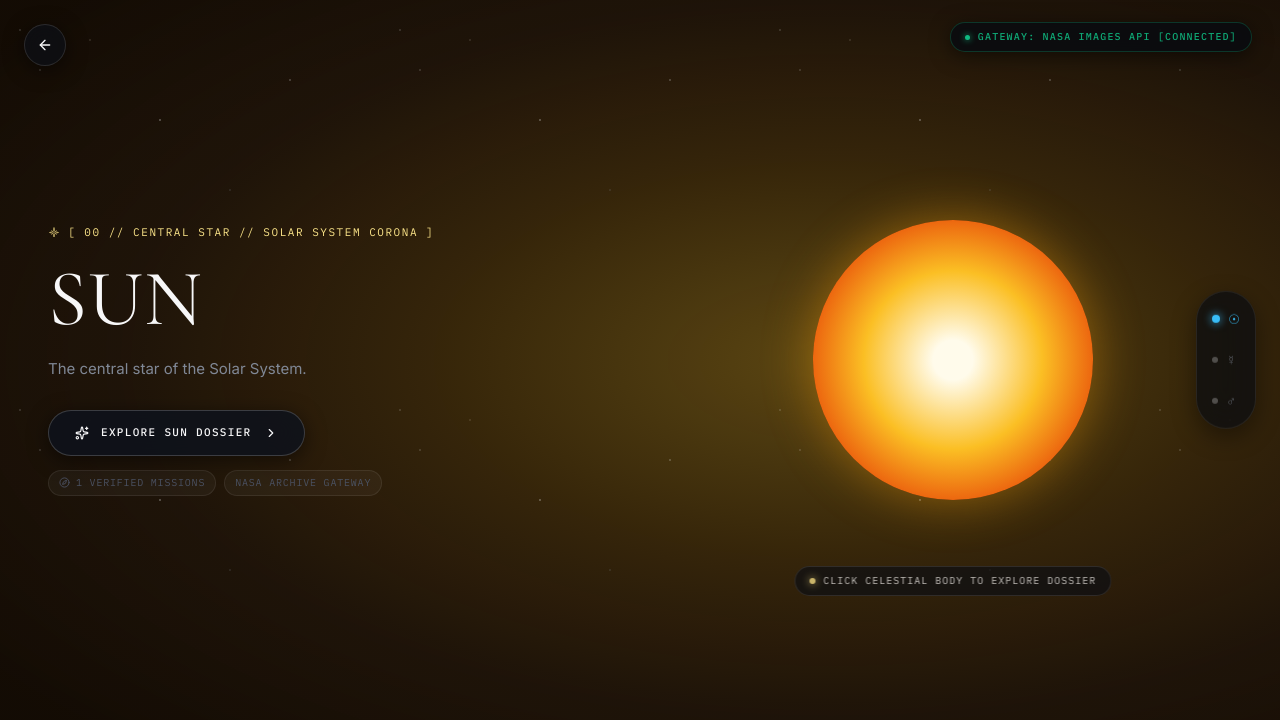
Test case: ASTRA Space Imagery — Immersive Planetary Worlds Redesign › renders interactive 3D celestial world on left stage with matching background theme when expanding dossier
// Expand Sun dossier
Click the button with test id "expand-world-sun" at {"x": 176, "y": 433}, box [48,410,304,456]
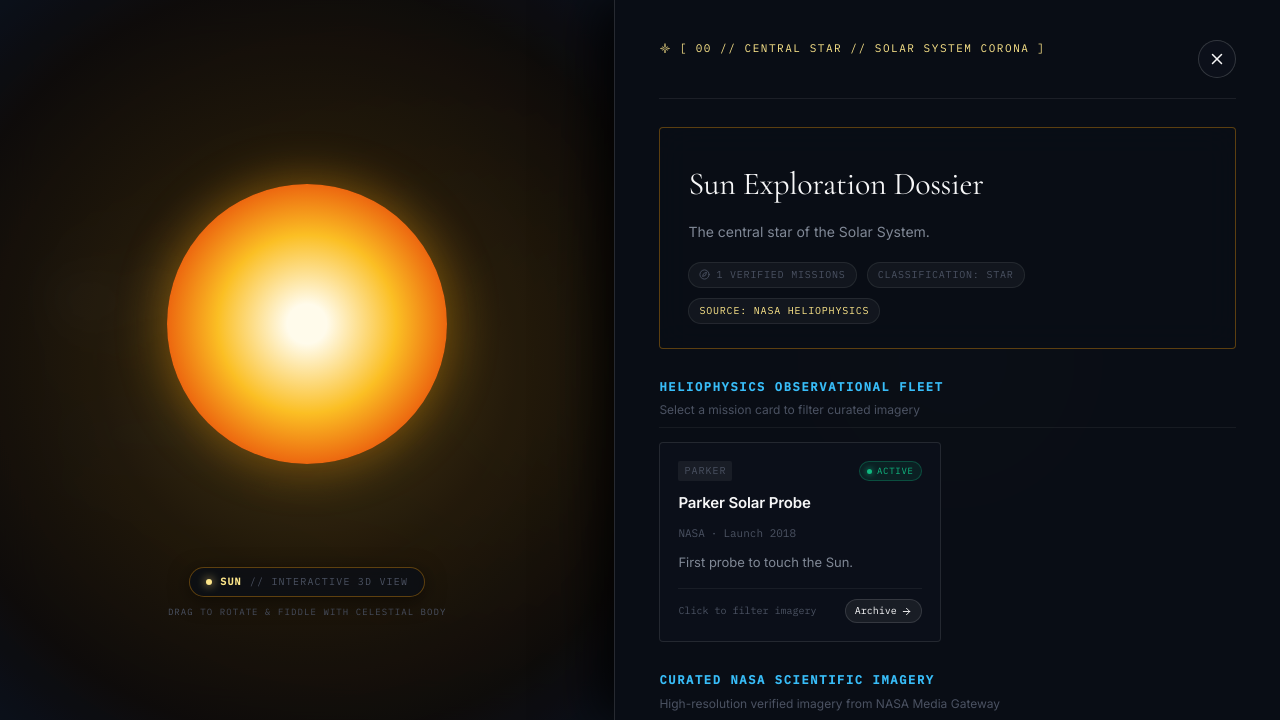
Result: the element with test id "dossier-overlay-sun" is shown
Result: the element with test id "dossier-stage-sun" is shown at [0,0,614,719]
Result: the button with test id "planet-visual-mini-sun" is shown at [167,184,447,464]
